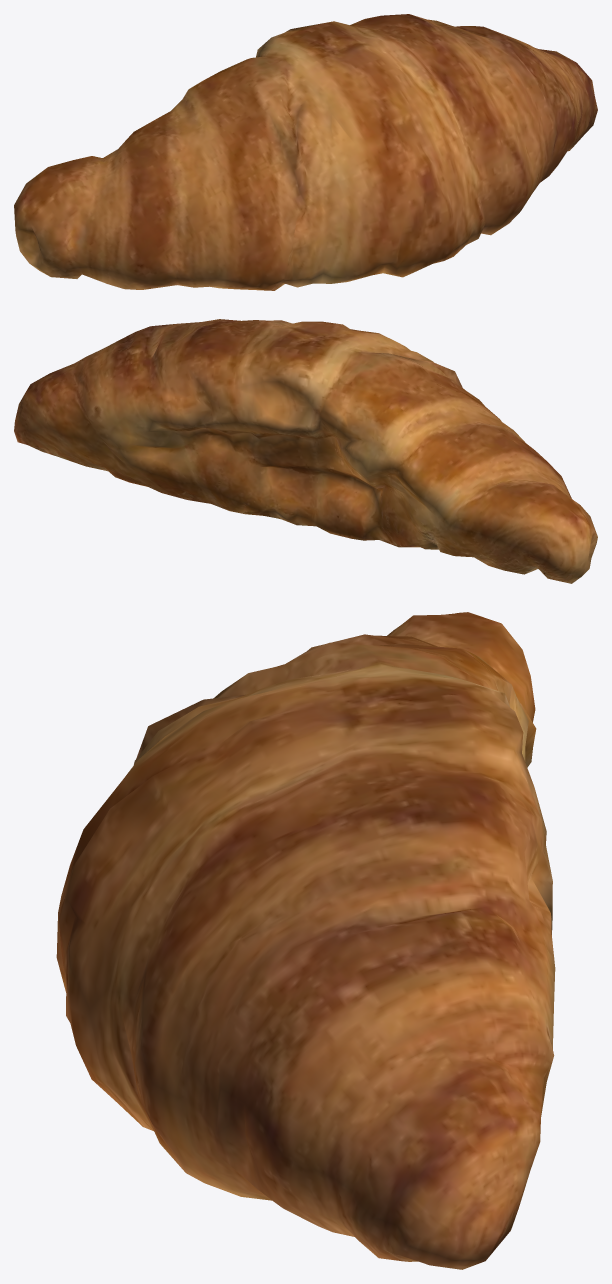
File: croissant.5e8934e4.glb
3 renders of one model, top to bottom at view 1: azimuth 30°, elevation 25°; view 2: azimuth 150°, elevation 25°; view 3: azimuth 270°, elevation 25°, orthographic. The views are drawn at different scales.
Parts seen in each view (by area): view 1: croissant; view 2: croissant; view 3: croissant.
Boxes of the visible parts, x1,y1,x2,y2 form: croissant: [14, 14, 597, 290]; croissant: [14, 319, 597, 583]; croissant: [56, 612, 555, 1269].
Bounding box in the file's own units: 0.95 × 0.2945 × 0.3587.
Materials: 1 (1 with a texture image).
